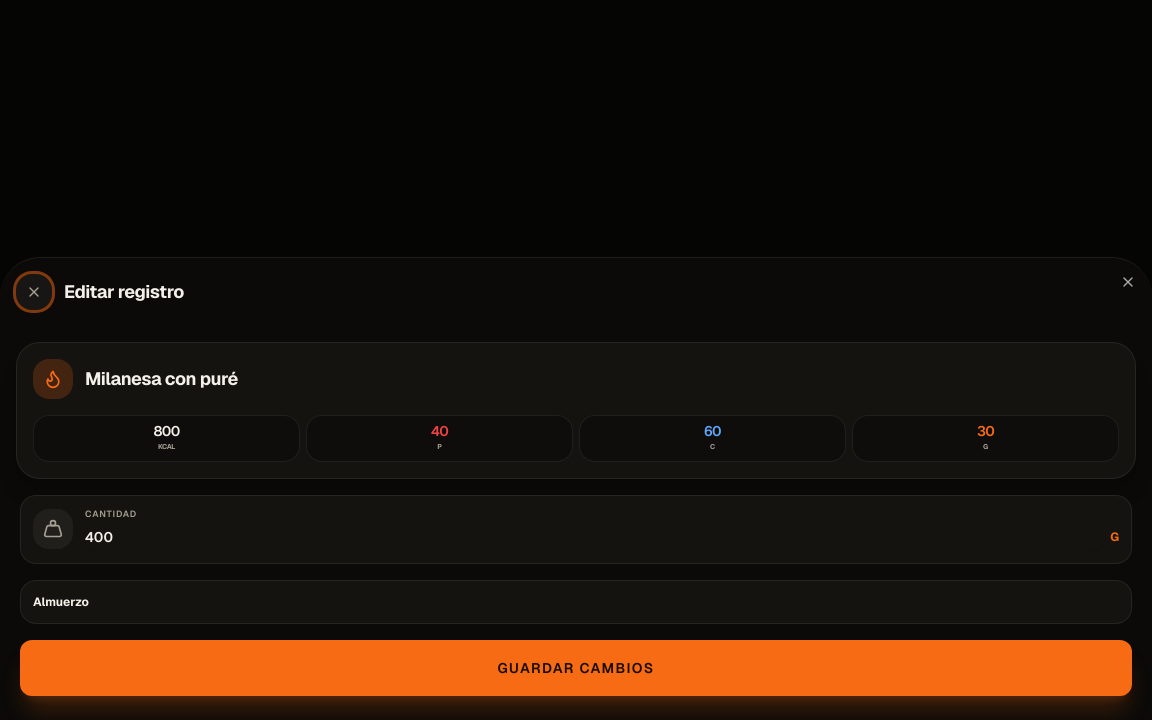
Test: EditEntrySheet › refuses to save an amount of zero
Step 1. Replace the text in the number field named "Cantidad" with "0" → (594, 537), box [85, 523, 1102, 551]
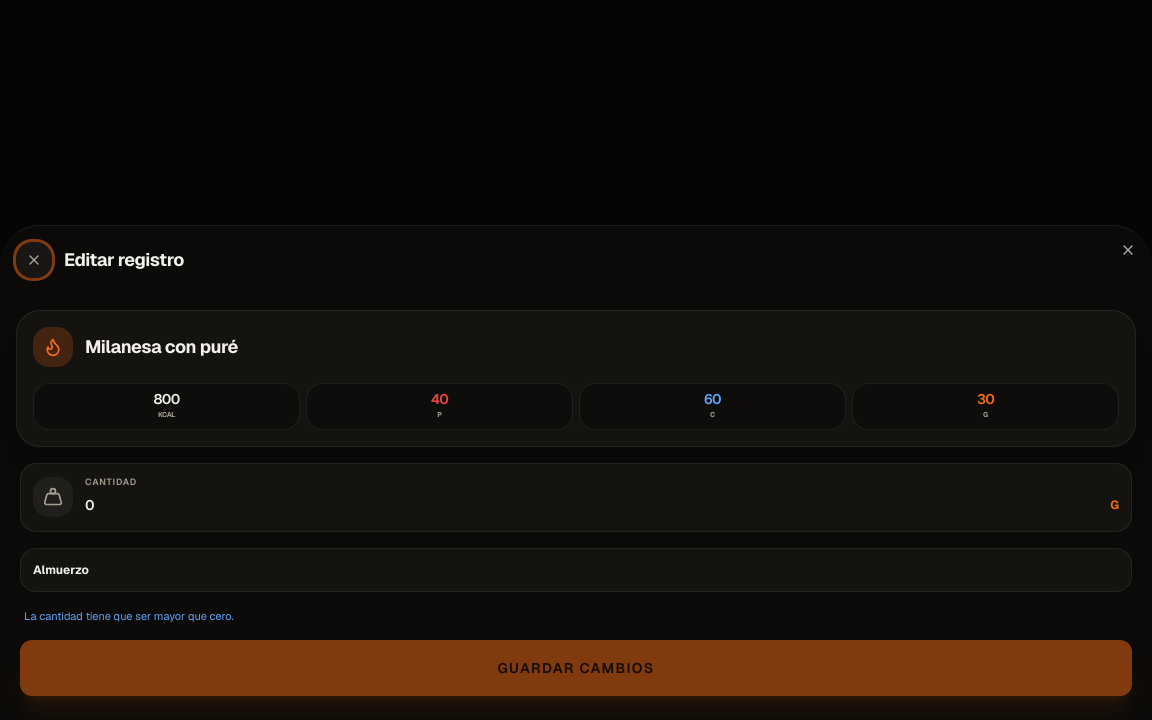
Now the button "Guardar Cambios" is disabled, box [20, 640, 1132, 696]
